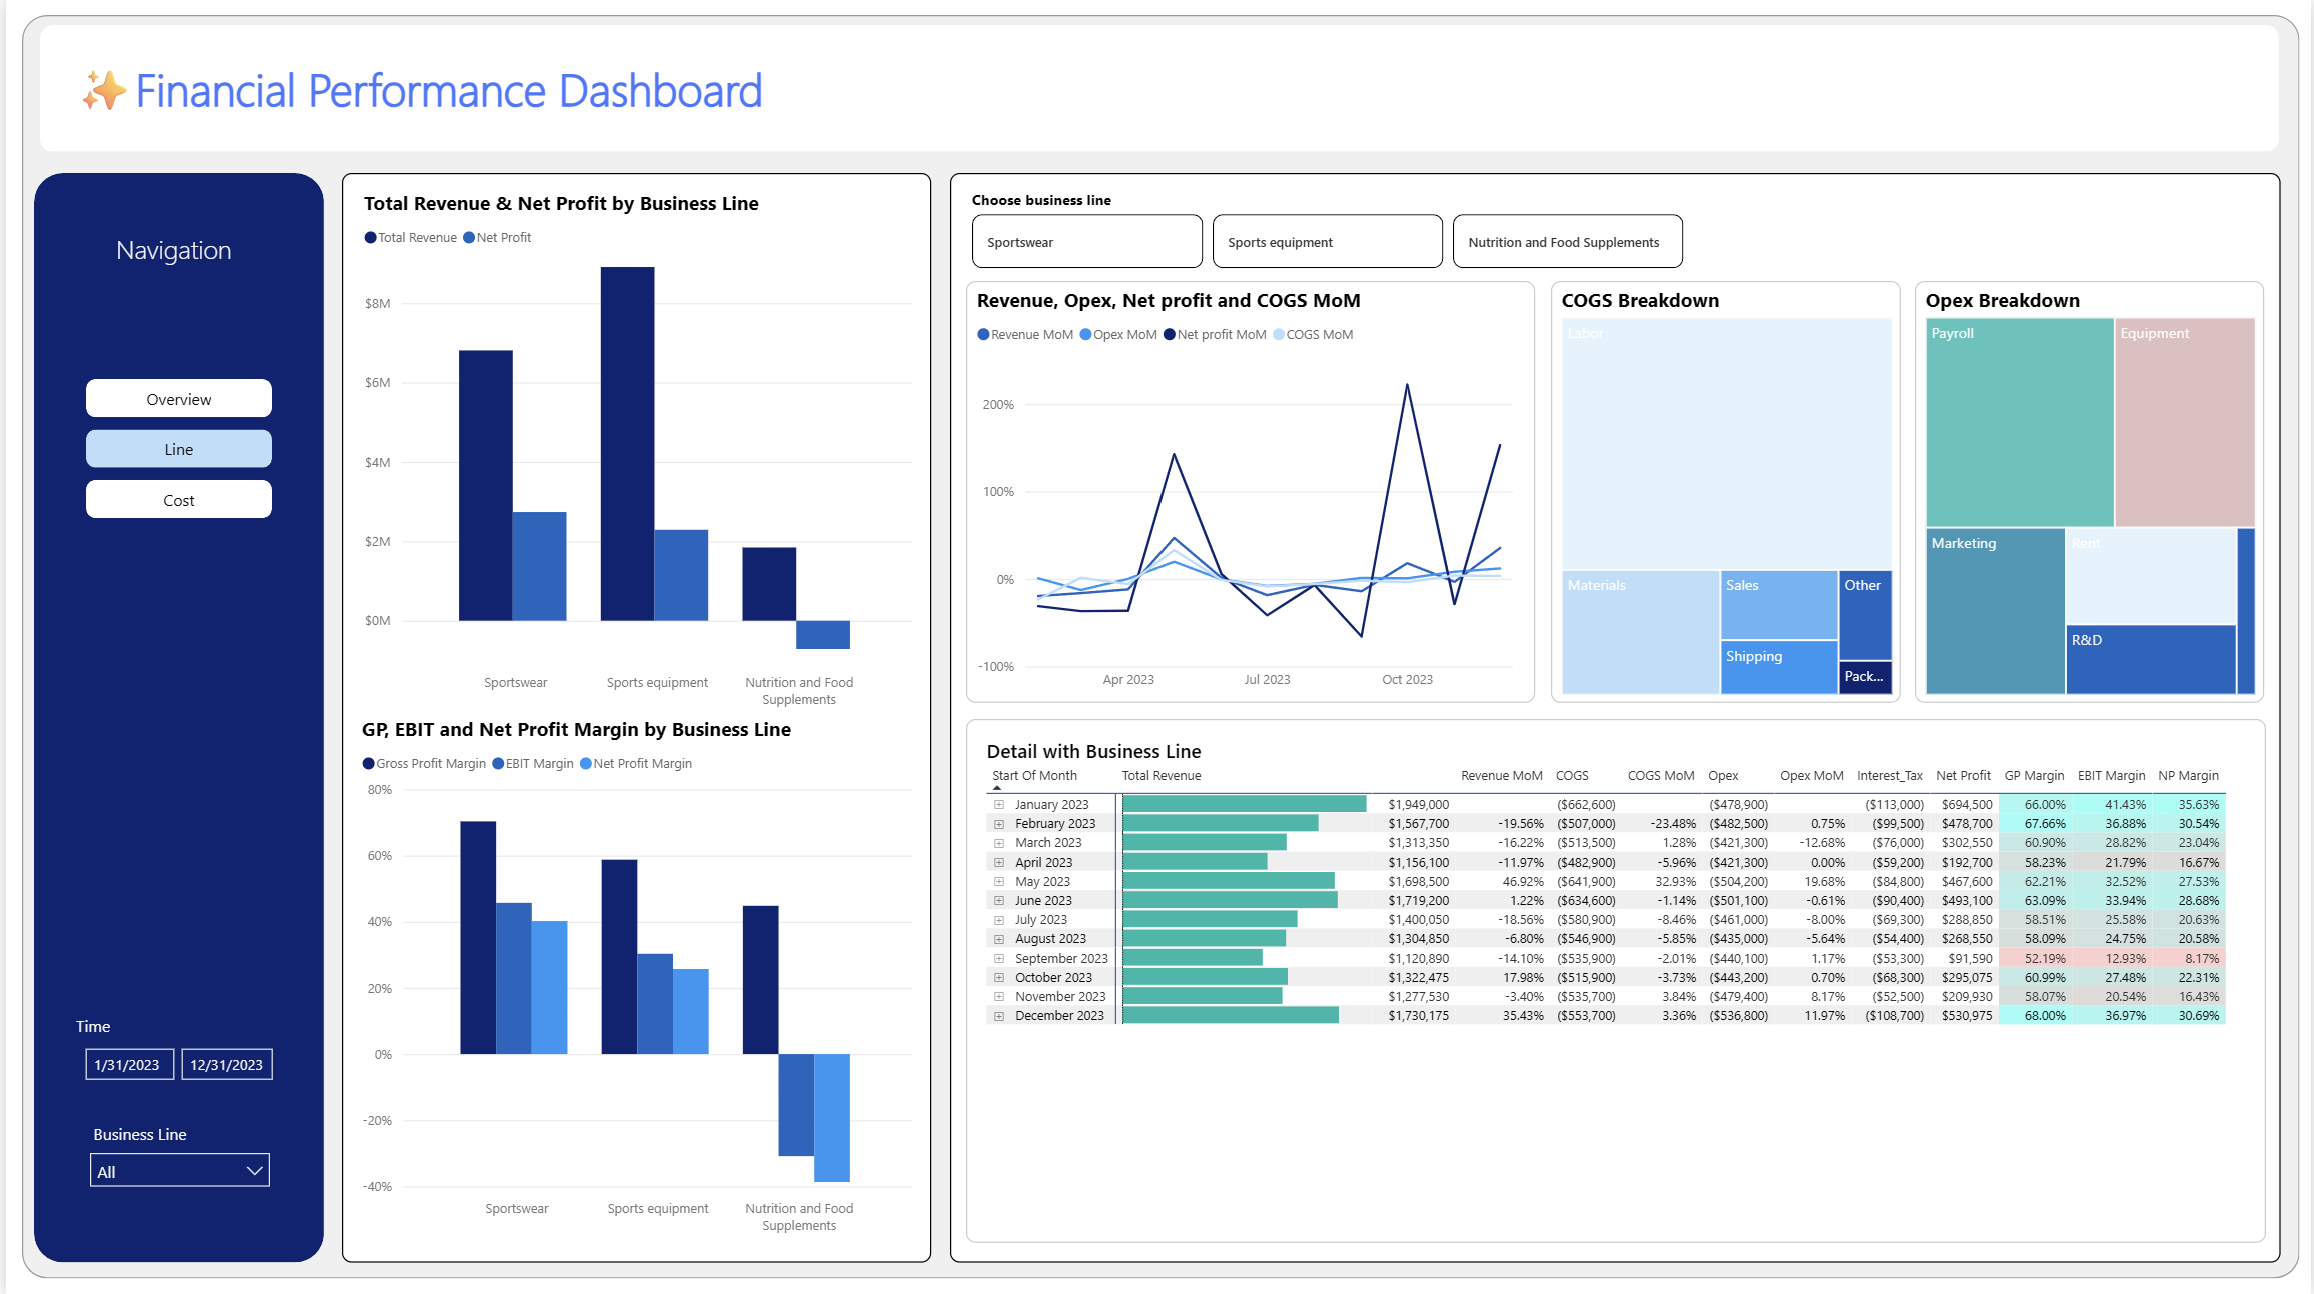

The page's visual inventory and layout, read from the dashboard file:
{"tool":"powerbi","page":{"name":"Line","canvas":[1920,1080],"ordinal":1},"visuals":[{"type":"shape","box":[12.8,14,1897.2,1052.8],"z":0},{"type":"shape","box":[27.9,22.1,1865,105.7],"z":2000},{"type":"textbox","box":[51.4,43.6,625,62.9],"z":3000},{"type":"shape","box":[22.7,144.5,241.7,907.9],"z":3000,"group":"g2"},{"type":"shape","box":[786.7,144.4,1107.8,907.8],"z":5000},{"type":"textbox","box":[85.7,187.2,115.7,42.9],"z":5000,"group":"g3"},{"type":"advancedSlicerVisual","title":"Choose business line","fields":{"Values":["Business Line.Business Line"]},"box":[800,158.2,603.6,71.8],"z":6000},{"type":"lineChart","title":"Revenue, Opex, Net profit and COGS MoM ","fields":{"Category":["Calendar.StartOfMonth"],"Y":["*Measure.Revenue MoM","*Measure.Opex MoM","*Measure.Net profit MoM","*Measure.COGS MoM"]},"box":[800,235.2,473.3,351.3],"z":7000},{"type":"shape","box":[280,145.6,490.9,908.2],"z":7500,"group":"g1"},{"type":"treemap","title":"COGS Breakdown","fields":{"Group":["Subgroup.Subgroup"],"Values":["Sum(Fact.Amount)"]},"box":[1285.8,235.1,291.7,351.7],"z":8000},{"type":"treemap","title":"Opex Breakdown","fields":{"Group":["Subgroup.Subgroup"],"Values":["Sum(Fact.Amount)"]},"box":[1590,235.1,290.8,351.7],"z":9000},{"type":"group","id":"g1","title":"Group 2","box":[280,145.6,490,907.8],"z":10000},{"type":"clusteredColumnChart","title":"GP, EBIT and Net Profit Margin by Business Line","fields":{"Category":["Business Line.Business Line"],"Y":["*Measure.Gross Profit Margin","*Measure.EBIT Margin","*Measure.Net Profit Margin"]},"box":[291.3,596.8,468.6,440],"z":11000,"group":"g1"},{"type":"clusteredColumnChart","title":"Total Revenue & Net Profit by Business Line","fields":{"Category":["Business Line.Business Line"],"Y":["*Measure.Total Revenue","*Measure.Net Profit"]},"box":[292.7,159.6,467.1,440],"z":12000,"group":"g1"},{"type":"pivotTable","title":"Detail with Business Line","fields":{"Rows":["Dim_calendar.StartOfMonth","Business Line.Business Line"],"Values":["*Measure.Total Revenue","*Measure.Total Revenue_1","*Measure.Revenue MoM","*Measure.Total COGS","*Measure.COGS MoM","*Measure.Total Opex","*Measure.Opex MoM","*Measure.Total Interest_Tax","*Measure.Net Profit","*Measure.Gross Profit Margin","*Measure.EBIT Margin","*Measure.Net Profit Margin"]},"box":[800,600,1082.7,436.4],"z":12000},{"type":"group","id":"g2","title":"Group 3","box":[22.7,144.5,241.7,907.9],"z":12001},{"type":"pageNavigator","box":[66.1,315.1,155,117.5],"z":18000,"group":"g3"},{"type":"slicer","title":"Time","fields":{"Values":["dim_calendar.Date"]},"box":[52.3,845.1,182.5,66.2],"z":19000,"group":"g3"},{"type":"slicer","fields":{"Values":["Business Line.Business Line"]},"box":[58.5,930.9,170,66.7],"z":20000,"group":"g3"},{"type":"group","id":"g3","title":"Group 1","box":[52.3,187.2,182.5,810.4],"z":20001,"group":"g2"}]}

Visuals, with their boxes in screenshot pixels (x1, y1, x2, y2), scaled from the page's 1920x1080 canvas onto the 2314x1294 screenshot:
shape: Rect(15, 17, 2302, 1278)
shape: Rect(34, 26, 2281, 153)
textbox: Rect(62, 52, 815, 128)
shape: Rect(27, 173, 319, 1261)
shape: Rect(948, 173, 2283, 1261)
textbox: Rect(103, 224, 243, 276)
"Choose business line" advancedSlicerVisual: Rect(964, 190, 1692, 276)
"Revenue, Opex, Net profit and COGS MoM " lineChart: Rect(964, 282, 1535, 703)
shape: Rect(337, 174, 929, 1263)
"COGS Breakdown" treemap: Rect(1550, 282, 1901, 703)
"Opex Breakdown" treemap: Rect(1916, 282, 2267, 703)
"Group 2" group: Rect(337, 174, 928, 1262)
"GP, EBIT and Net Profit Margin by Business Line" clusteredColumnChart: Rect(351, 715, 916, 1242)
"Total Revenue & Net Profit by Business Line" clusteredColumnChart: Rect(353, 191, 916, 718)
"Detail with Business Line" pivotTable: Rect(964, 719, 2269, 1242)
"Group 3" group: Rect(27, 173, 319, 1261)
pageNavigator: Rect(80, 378, 266, 518)
"Time" slicer: Rect(63, 1013, 283, 1092)
slicer - Business Line.Business Line: Rect(71, 1115, 275, 1195)
"Group 1" group: Rect(63, 224, 283, 1195)
